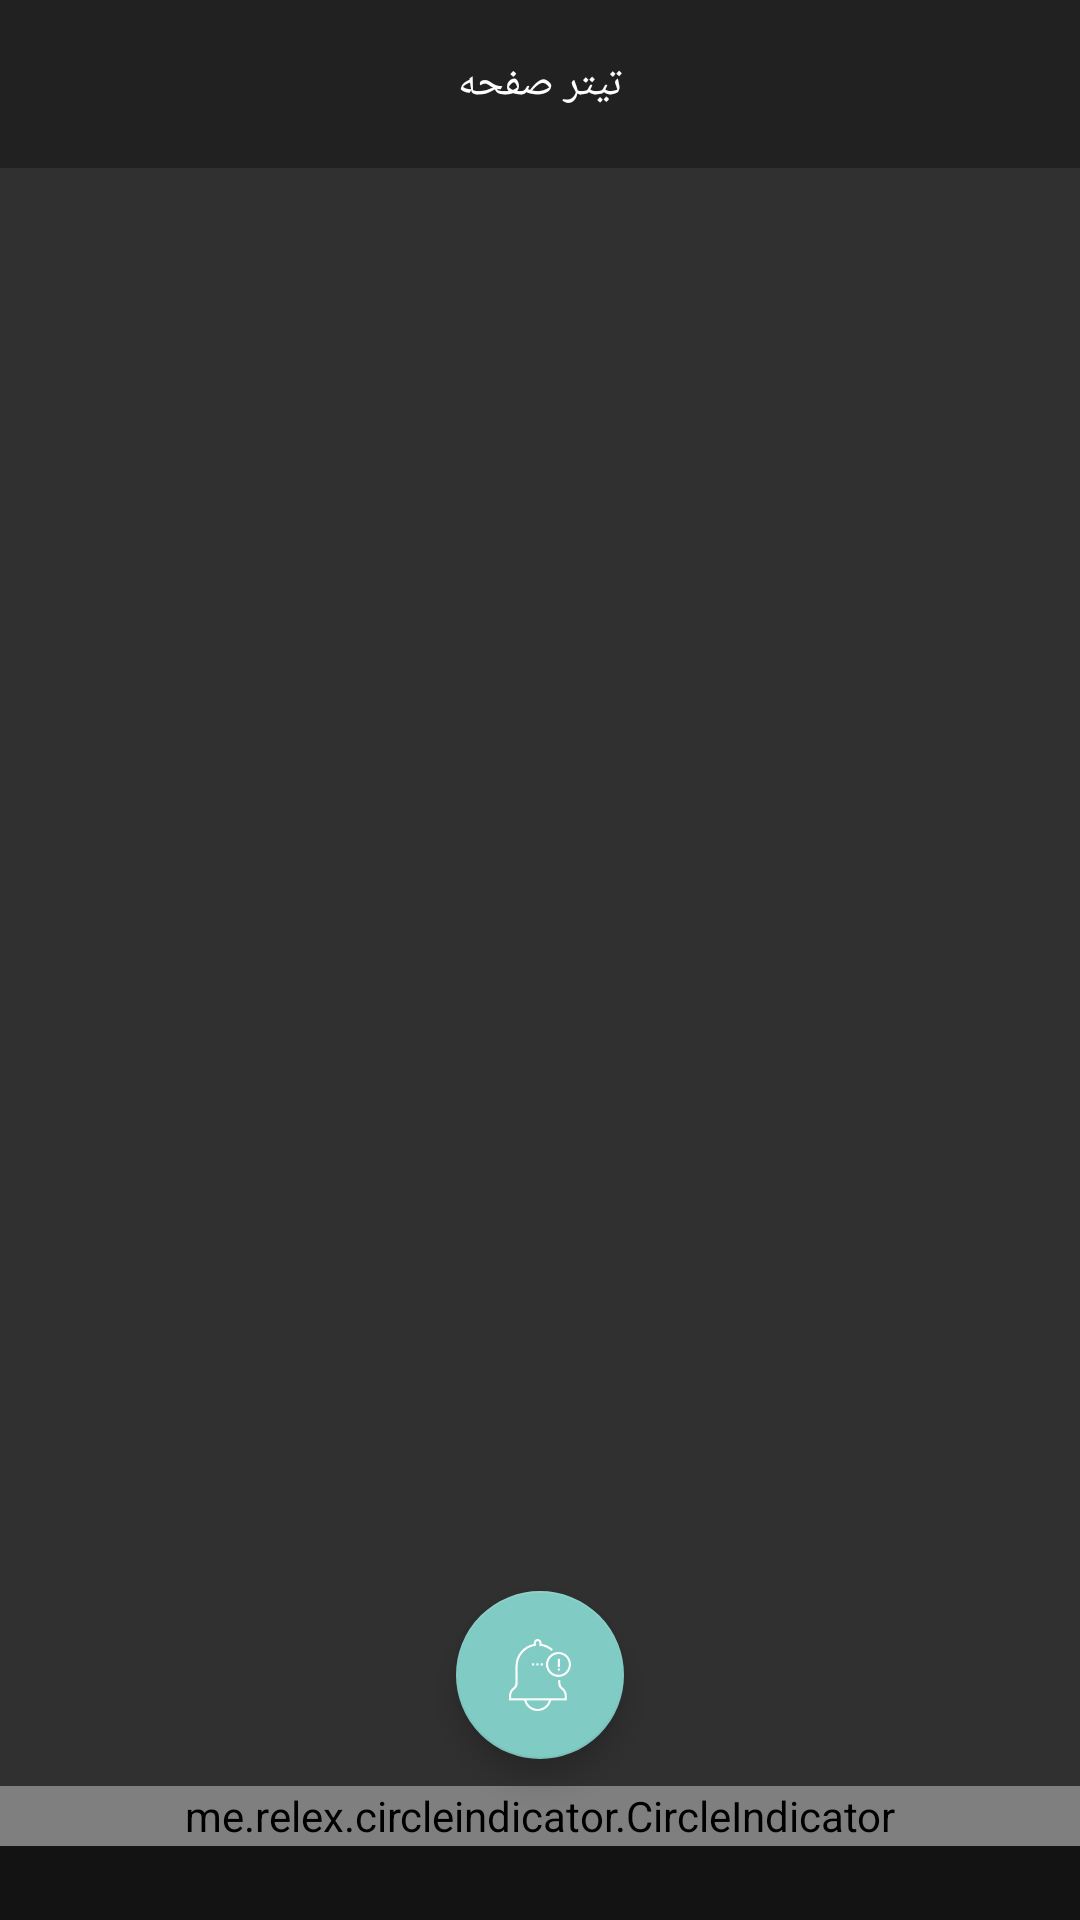

Screen size 1080 × 1920. Icon name, then its center in pixels as (x,y):
notification: (540,1675)
